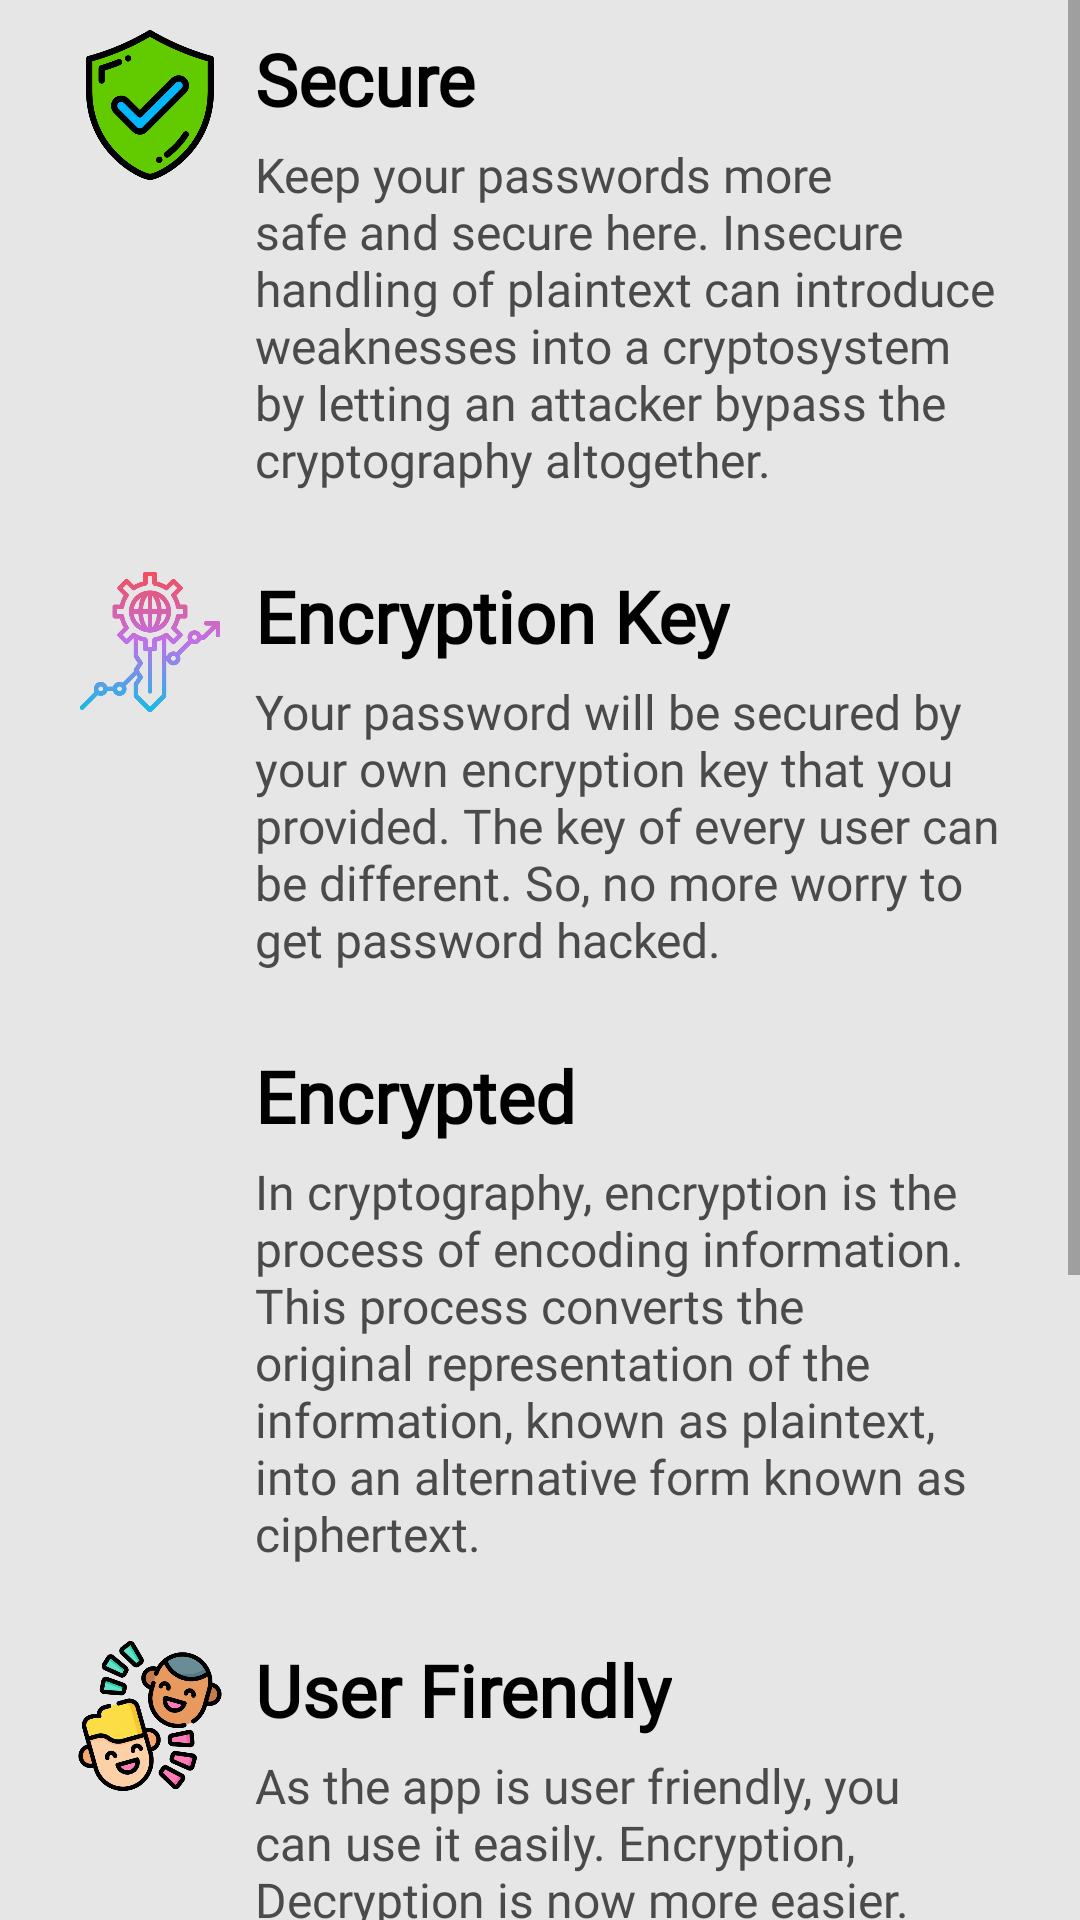

Where to tap for icons on this 1080×1920 app screen, as point (x, y):
user fiendly: point (150, 1716)
